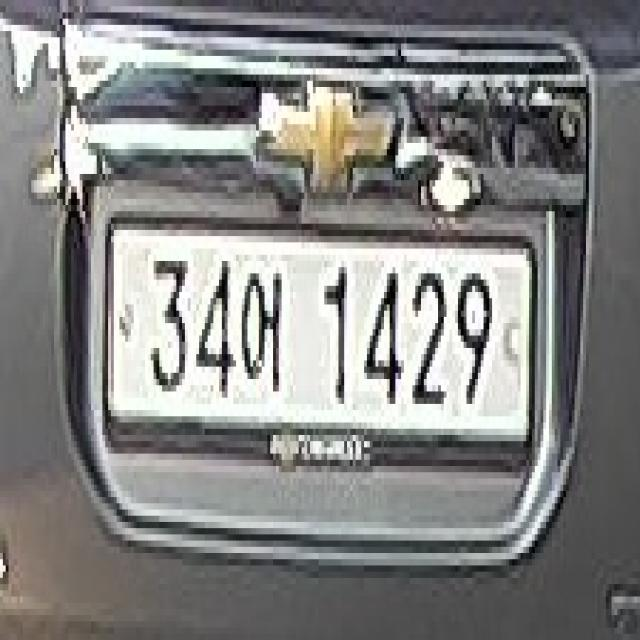1: (324, 261, 350, 410)
2: (406, 261, 446, 416)
3: (150, 248, 188, 398)
4: (364, 261, 404, 410), (194, 261, 236, 398)
9: (455, 267, 495, 410)
eo: (239, 267, 284, 398)
license_plate: (105, 211, 538, 466)
